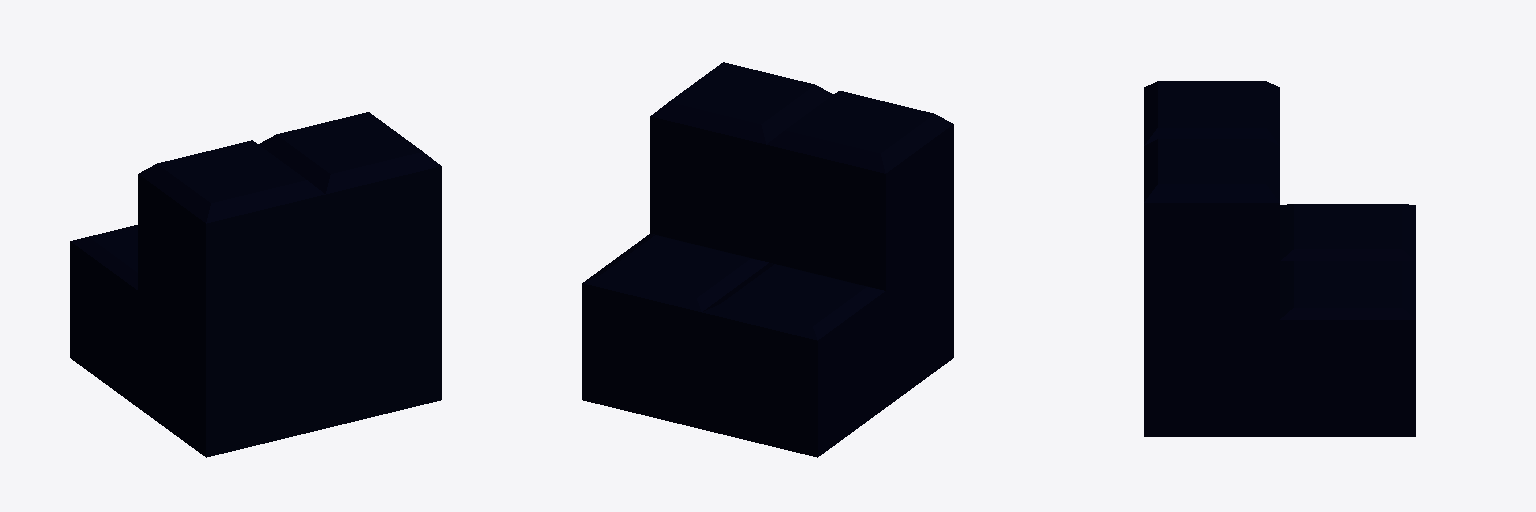
The model's file is Step.obj.
3 renders of one model, left to right at view 1: azimuth 30°, elevation 25°; view 2: azimuth 150°, elevation 25°; view 3: azimuth 270°, elevation 25°, orthographic.
Visible parts, largest first — view 1: obj_0.012; view 2: obj_0.012; view 3: obj_0.012.
Boxes of the visible parts, x1,y1,x2,y2 form: obj_0.012: [70, 112, 441, 457]; obj_0.012: [582, 62, 953, 457]; obj_0.012: [1144, 81, 1415, 436].
Size of the model in its own units: 20 by 20 by 20.